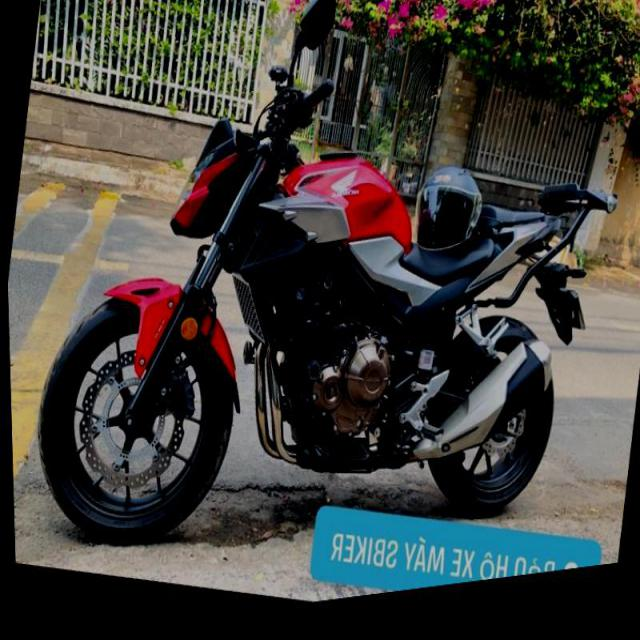CB500F: (10, 43, 625, 638)
